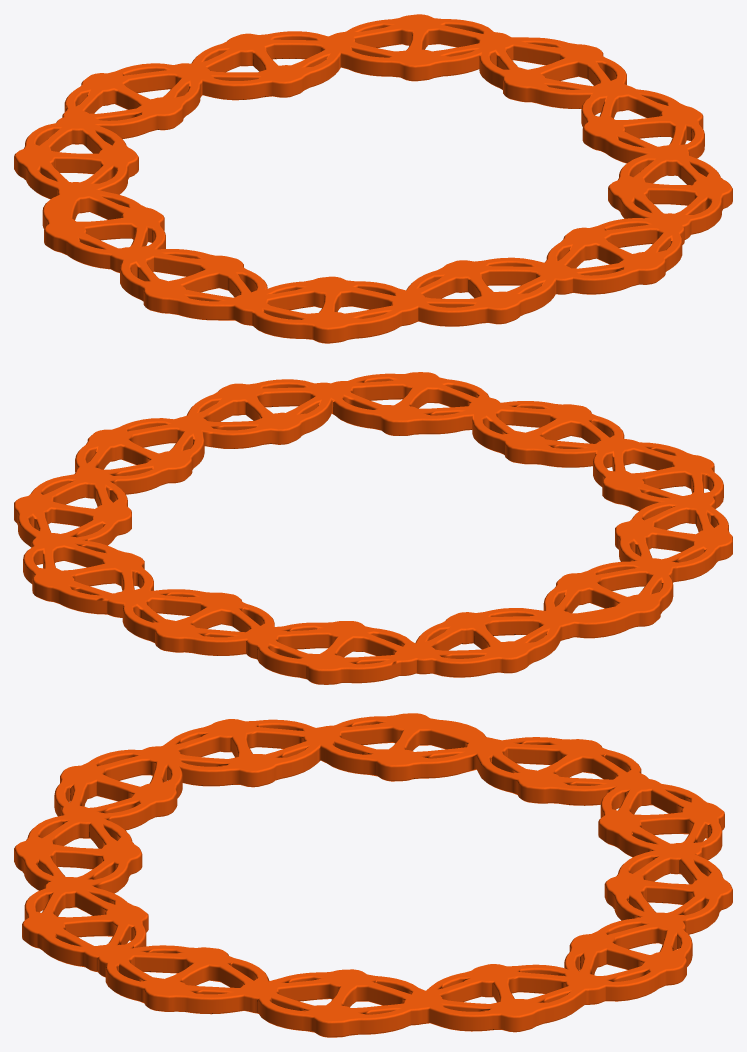
The model's file is Resistance_Symbol_V001_Rotations.glb.
3 views of the same model, one above another, from view 1: azimuth 30°, elevation 25°; view 2: azimuth 150°, elevation 25°; view 3: azimuth 270°, elevation 25° (orthographic). The views are drawn at different scales.
Parts seen in each view (by area): view 1: Resistance_symbol_v001:polySurface1; view 2: Resistance_symbol_v001:polySurface1; view 3: Resistance_symbol_v001:polySurface1.
Boxes of the visible parts, bbox=[...] form: Resistance_symbol_v001:polySurface1: bbox=[14, 14, 732, 343]; Resistance_symbol_v001:polySurface1: bbox=[14, 372, 732, 684]; Resistance_symbol_v001:polySurface1: bbox=[14, 713, 732, 1037].
Size of the model in its own units: 18.61 by 0.4699 by 18.27.
